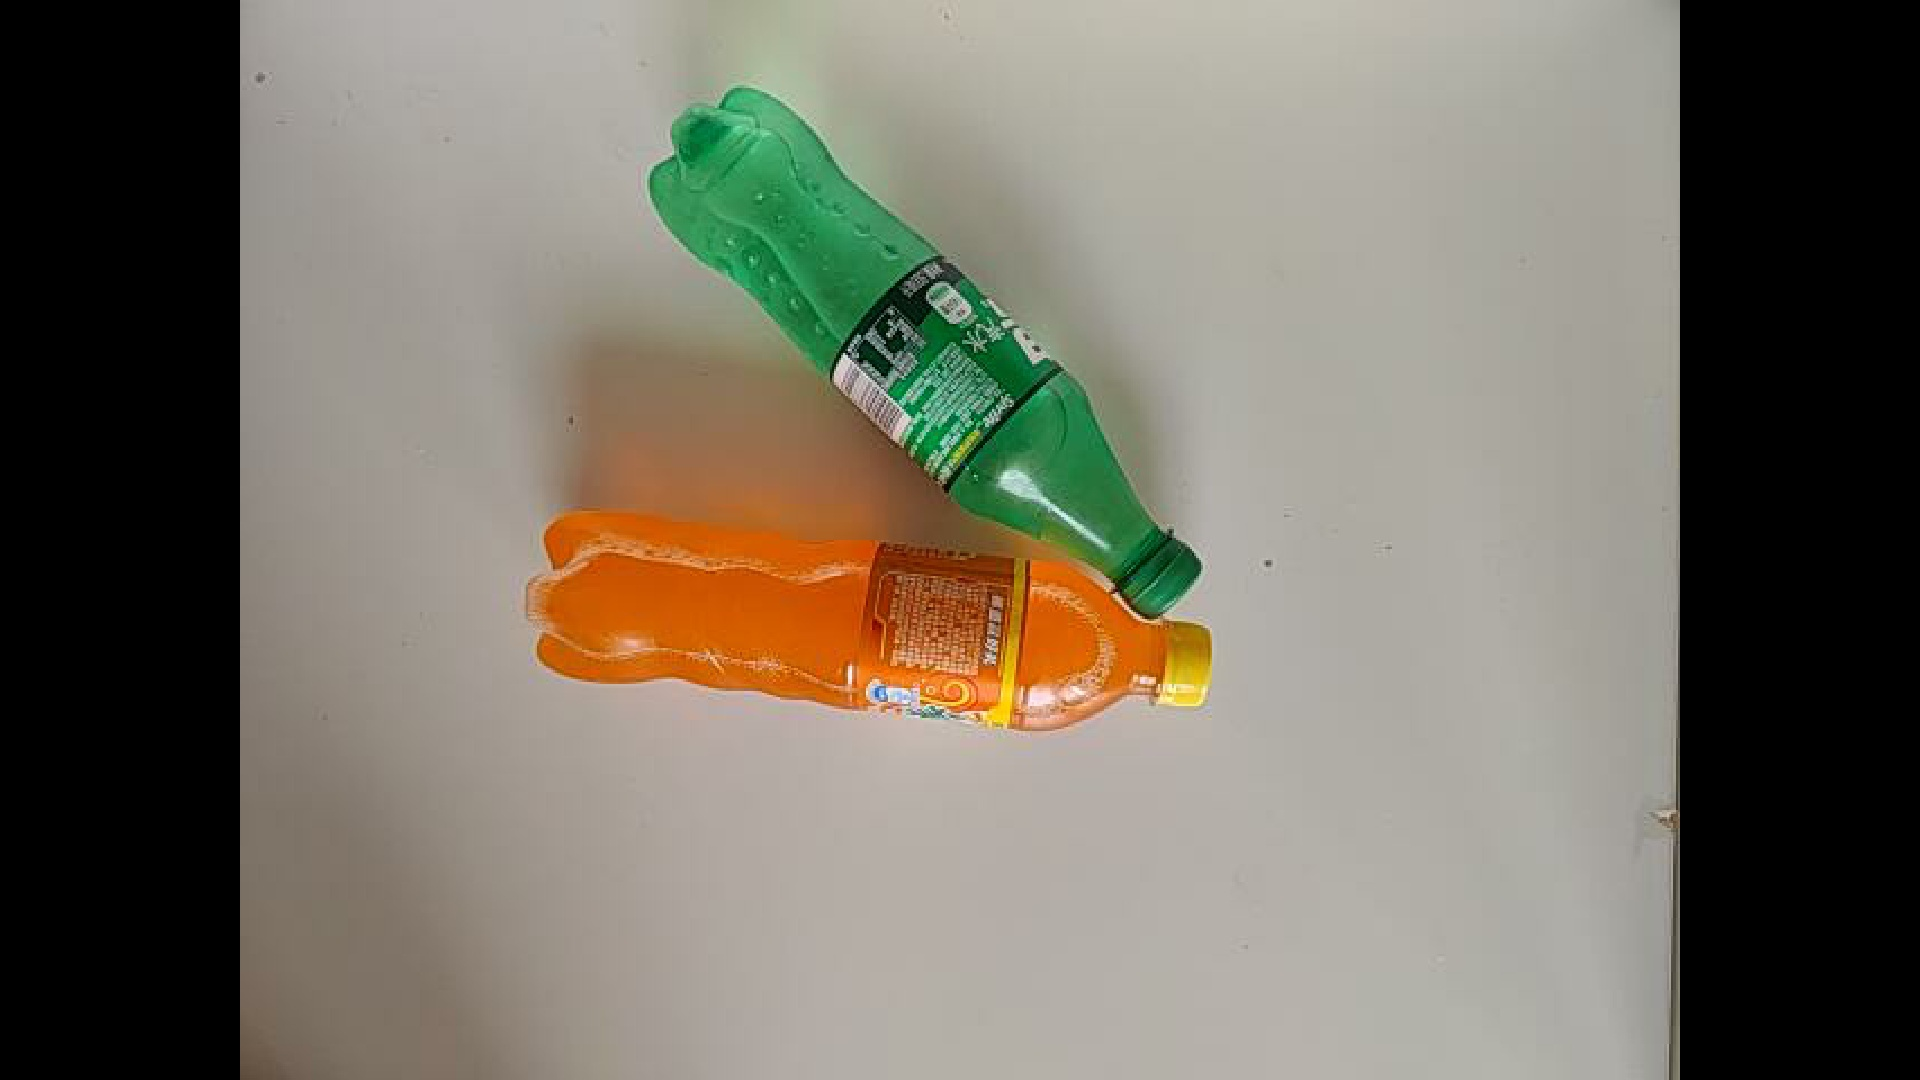fenta: (497, 500, 1226, 720)
sprite: (514, 53, 1245, 455)
